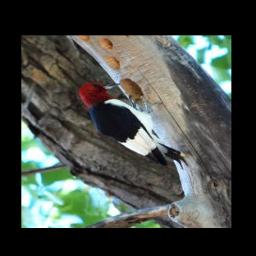Woodpecker: (80, 81, 192, 169)
